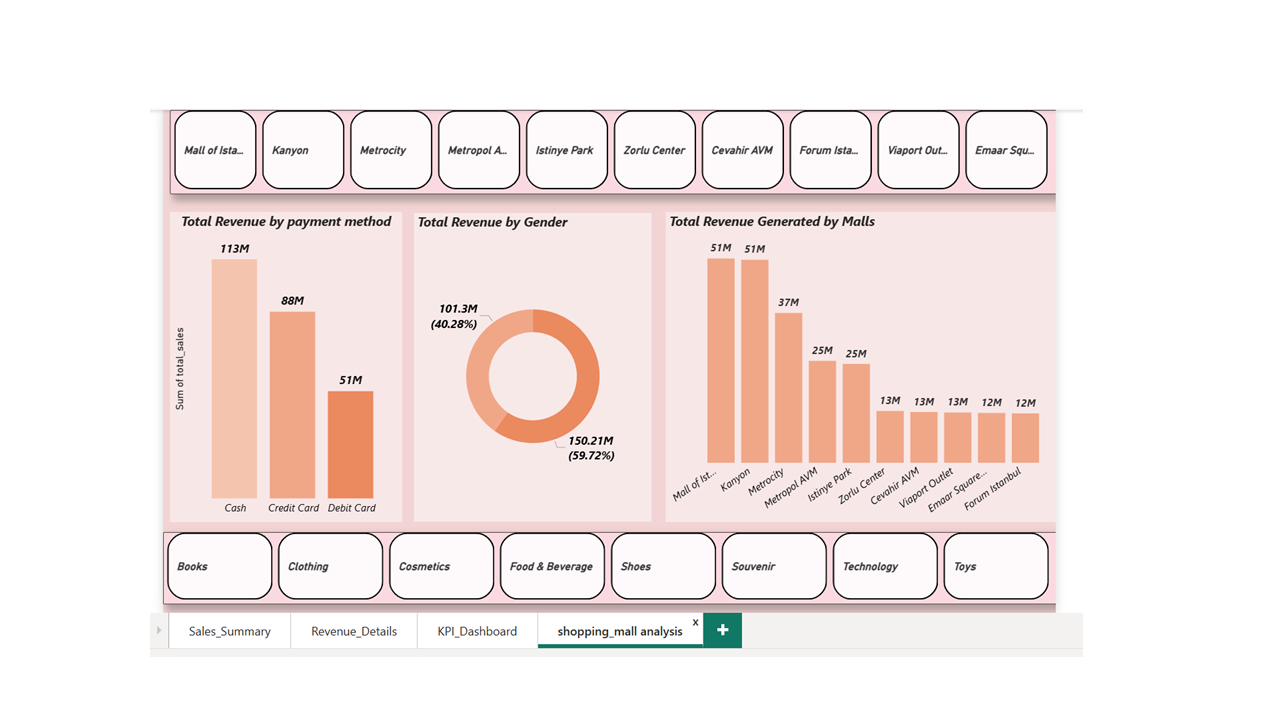

The dashboard page shown, as its layout file describes it:
{"tool":"powerbi","page":{"name":"shopping_mall analysis","canvas":[1280,720],"ordinal":3},"visuals":[{"type":"advancedSlicerVisual","fields":{"Values":["project_customer_segmentation customer.shopping_mall"]},"box":[9.5,0,1270.9,120.9],"z":0},{"type":"columnChart","title":" Total Revenue by payment method","fields":{"Category":["project_customer_segmentation customer.payment_method"],"Y":["Sum(project_customer_segmentation customer.total_sales)"]},"box":[9.5,146.3,332.4,443.8],"z":1000},{"type":"donutChart","title":"Total Revenue by Gender","fields":{"Category":["project_customer_segmentation customer.gender"],"Y":["Sum(project_customer_segmentation customer.total_sales)"]},"box":[359.5,147.9,340.4,442.2],"z":2000},{"type":"advancedSlicerVisual","fields":{"Values":["project_customer_segmentation customer.category"]},"box":[0,604.4,1280.4,103.4],"z":3000},{"type":"columnChart","title":"Total Revenue Generated by Malls","fields":{"Category":["project_customer_segmentation customer.shopping_mall"],"Y":["Sum(project_customer_segmentation customer.total_sales)"]},"box":[720.5,146.3,559.9,443.8],"z":4000}]}

Visuals, with their boxes on the page's 1280x720 design canvas (x1, y1, x2, y2). These are canvas units, not pixel positions in the 1280x720 screenshot, which may show the page scaled, cropped or inside an application window:
advancedSlicerVisual - project_customer_segmentation customer.shopping_mall: (10, 0, 1280, 121)
" Total Revenue by payment method" columnChart: (10, 146, 342, 590)
"Total Revenue by Gender" donutChart: (360, 148, 700, 590)
advancedSlicerVisual - project_customer_segmentation customer.category: (0, 604, 1280, 708)
"Total Revenue Generated by Malls" columnChart: (720, 146, 1280, 590)
